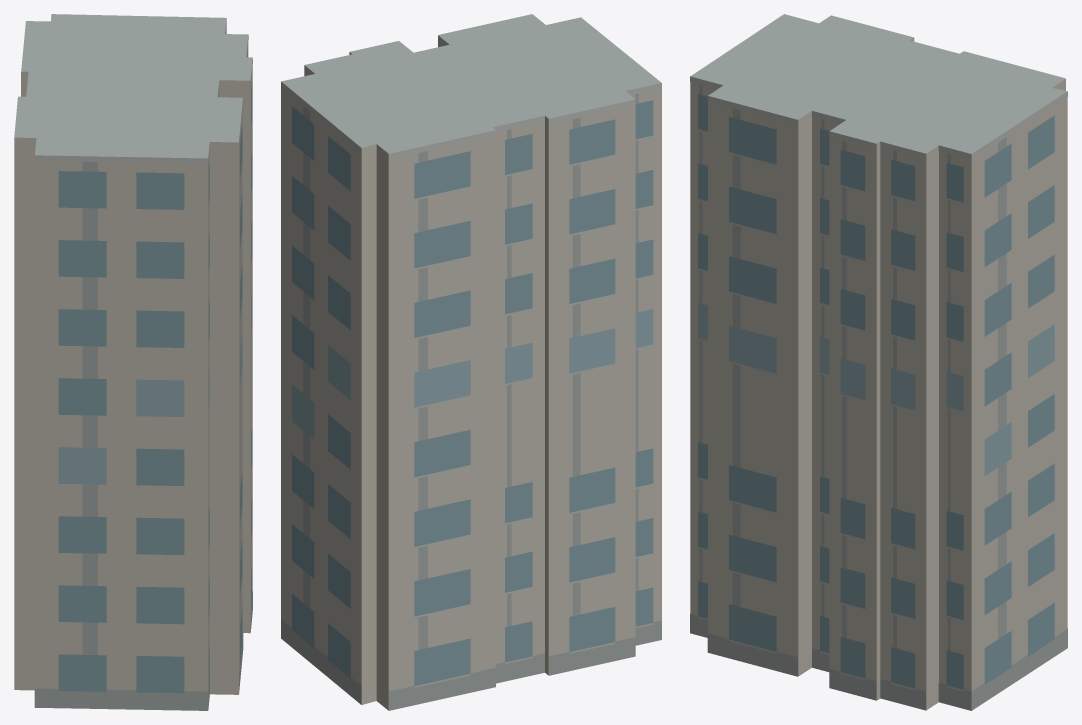
The model's file is survey-upis-32746921.glb.
The picture shows the model from 3 angles, left to right: view 1: azimuth 30°, elevation 25°; view 2: azimuth 150°, elevation 25°; view 3: azimuth 270°, elevation 25°; orthographic projection.
Visible parts, largest first — view 1: survey-upis-32746921.tmp; view 2: survey-upis-32746921.tmp; view 3: survey-upis-32746921.tmp.
Boxes of the visible parts, x1,y1,x2,y2 form: survey-upis-32746921.tmp: (14,14,252,710); survey-upis-32746921.tmp: (281,14,661,710); survey-upis-32746921.tmp: (690,14,1067,710).
Bounding box in the file's own units: 12.84 × 23.8 × 14.63.
